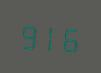nine: (18, 17, 38, 52)
one: (40, 19, 60, 53)
six: (61, 20, 81, 55)
